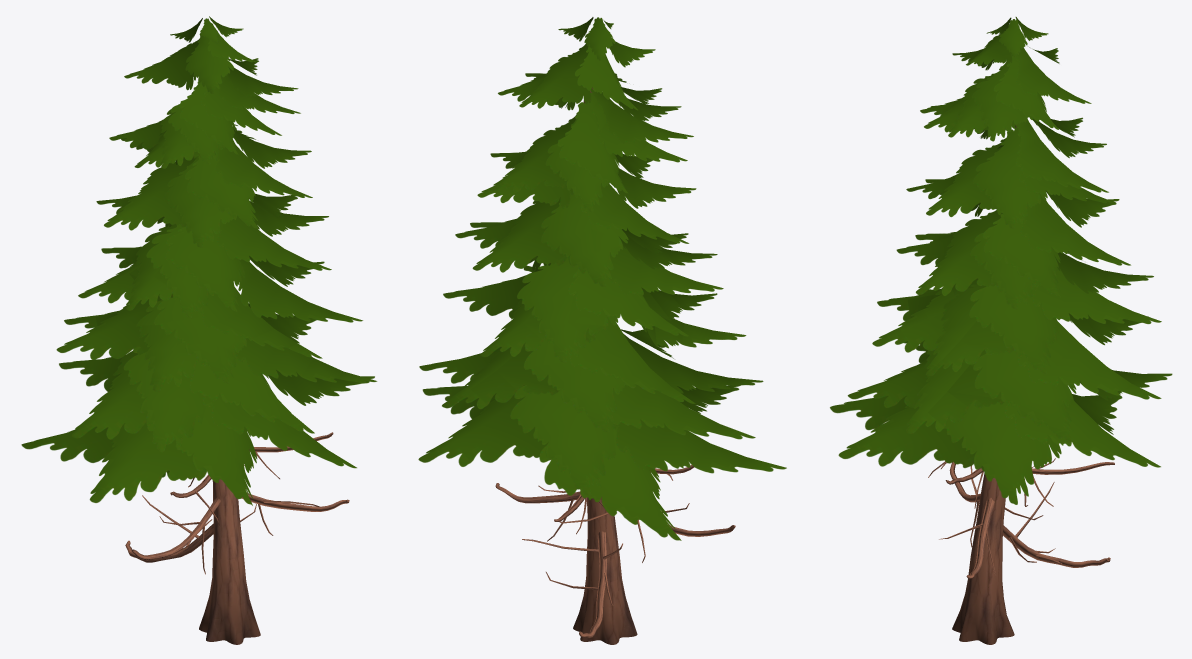
Rendered from n_pine2.glb.
The picture shows the model from 3 angles, left to right: view 1: azimuth 30°, elevation 25°; view 2: azimuth 150°, elevation 25°; view 3: azimuth 270°, elevation 25°; orthographic projection. The views are drawn at different scales.
Parts seen in each view (by area): view 1: Pine_4; view 2: Pine_4; view 3: Pine_4.
Part boxes in pixels (bbox=[...]): Pine_4: bbox=[21, 16, 377, 644]; Pine_4: bbox=[418, 17, 786, 644]; Pine_4: bbox=[830, 17, 1172, 644].
Size of the model in its own units: 5.8 by 10.24 by 5.37.
Materials: 2 (2 with a texture image).
